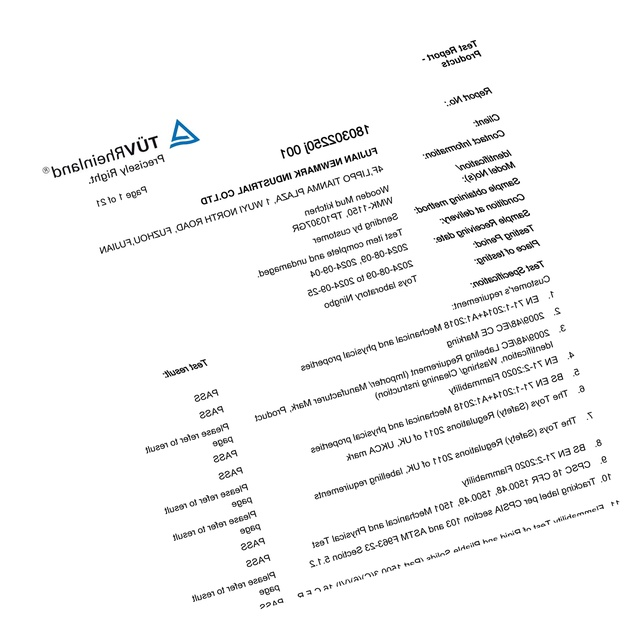tuv_rheinland: (39, 115, 200, 192)
